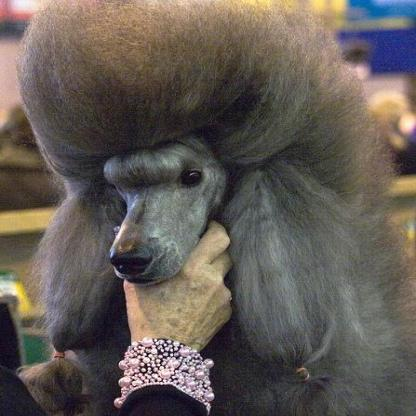standard_poodle: (13, 0, 412, 414)
